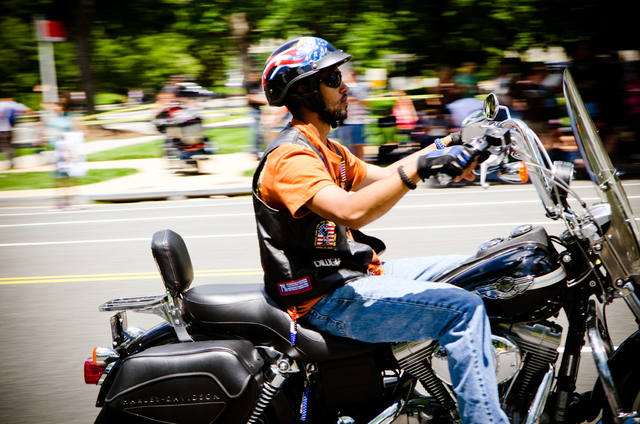helmet: (250, 41, 350, 84)
